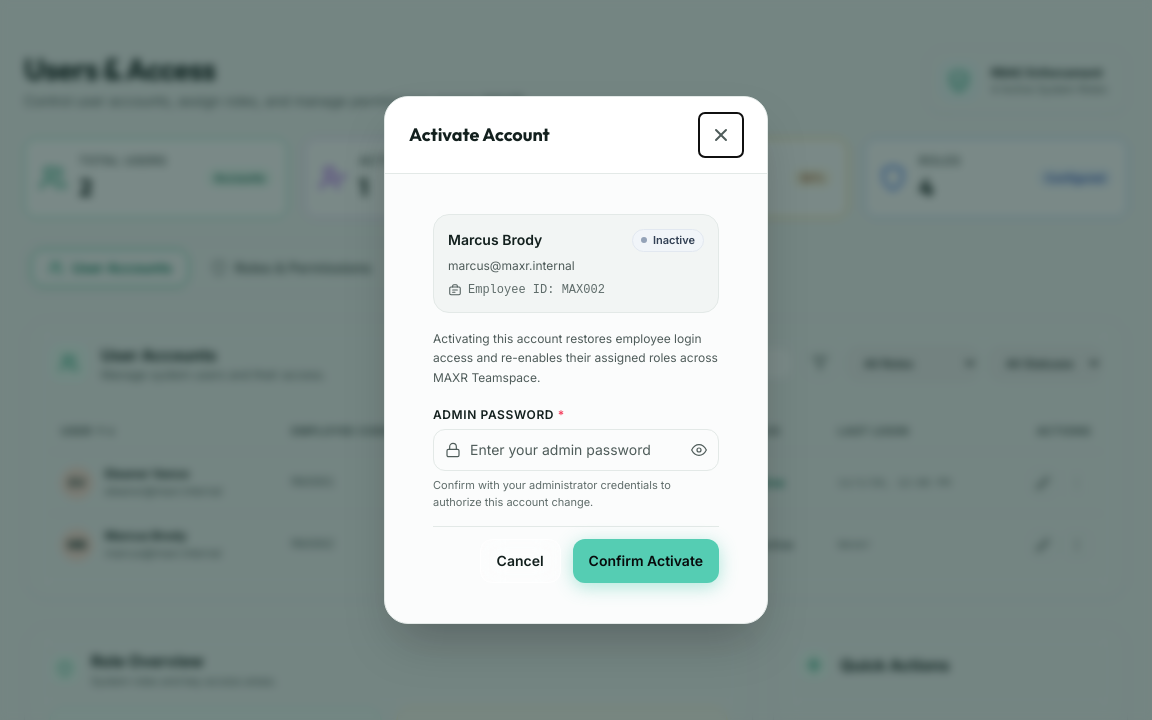
Scenario: UsersPage Component Suite (Issue #27) › shows inline error and keeps modal open when admin password verification fails
Earlier steps of the test are not shown.
Check: the element with test id "user-status-modal" is shown, box [409,190,743,607]
In the password field with test id "admin-password-input": (576, 450) [433,429,719,471], type "WrongPassword#999"
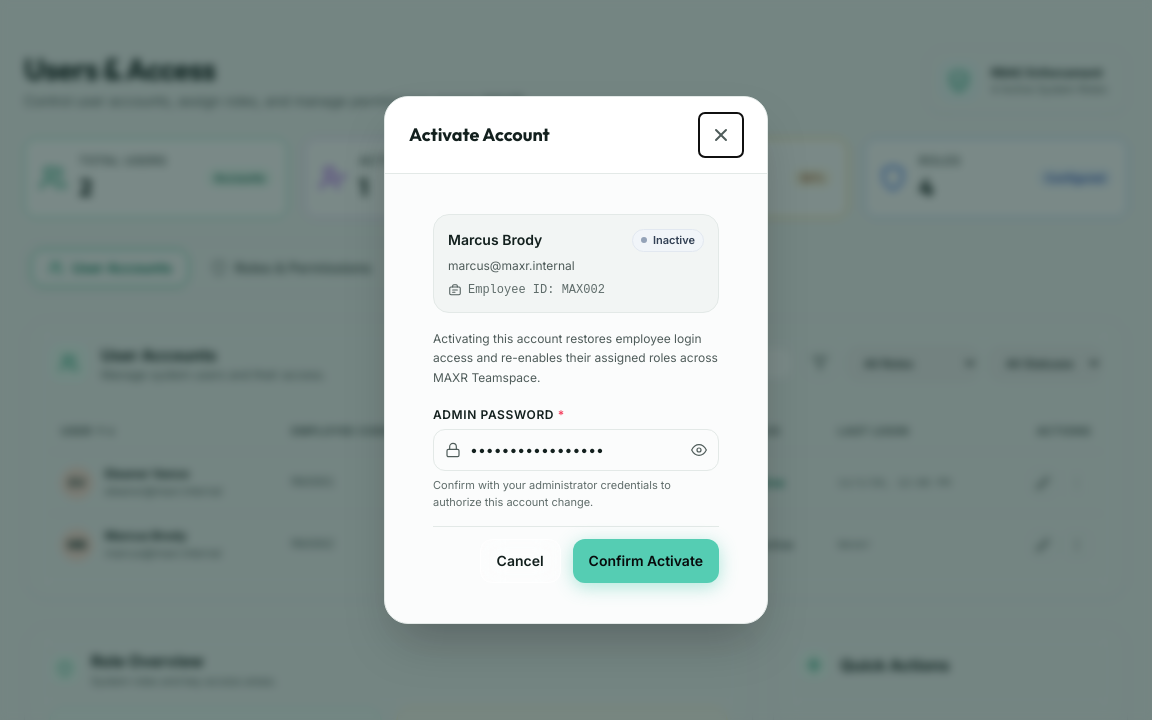
Click the button with test id "confirm-status-toggle-btn": (646, 561) [573,539,719,583]
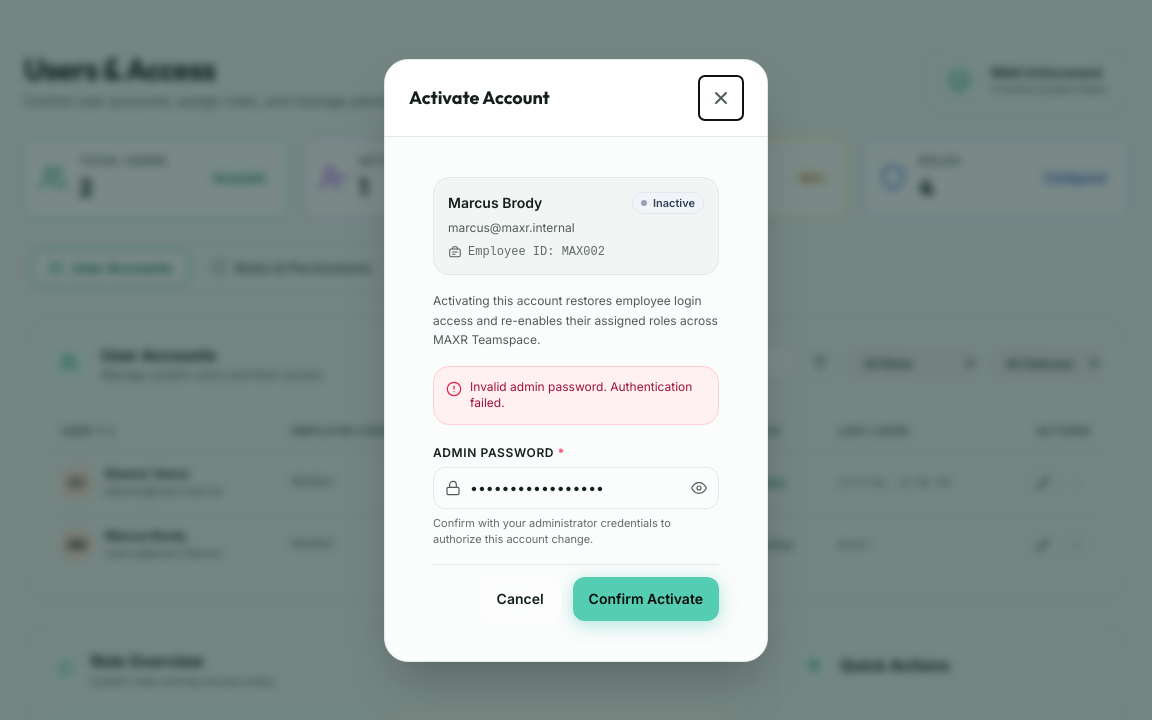
Check: the element with test id "user-status-modal" is shown, box [409,152,743,644]
Check: the message with test id "user-status-error" shows "Invalid admin password", box [470,378,692,410]
